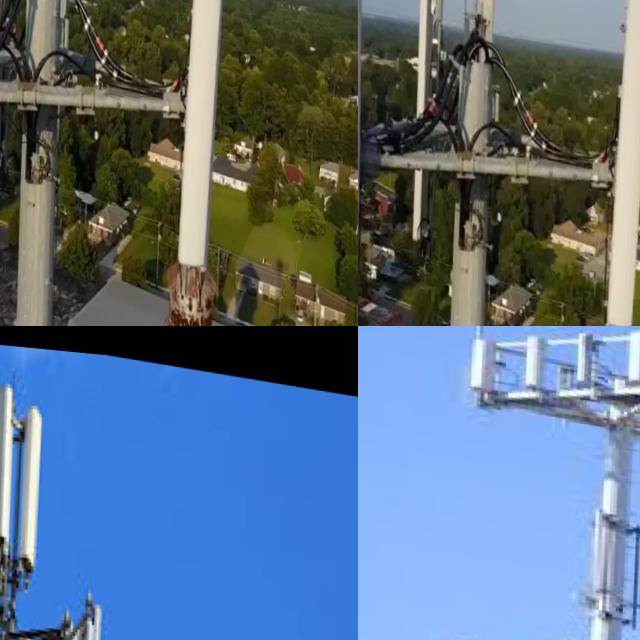GSM Antenna: (400, 0, 446, 270), (174, 0, 221, 261), (14, 395, 58, 579), (27, 0, 81, 122), (463, 0, 502, 126), (0, 375, 23, 564), (0, 0, 23, 183), (516, 326, 546, 386), (467, 332, 497, 387), (616, 326, 640, 382), (80, 596, 109, 640), (572, 326, 593, 377)
